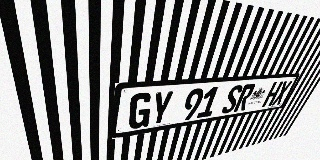1: (197, 86, 221, 118)
9: (180, 88, 205, 121)
G: (127, 92, 154, 130)
H: (261, 81, 283, 107)
R: (233, 84, 256, 112)
S: (220, 85, 244, 114)
X: (271, 81, 293, 106)
Y: (149, 90, 174, 126)
